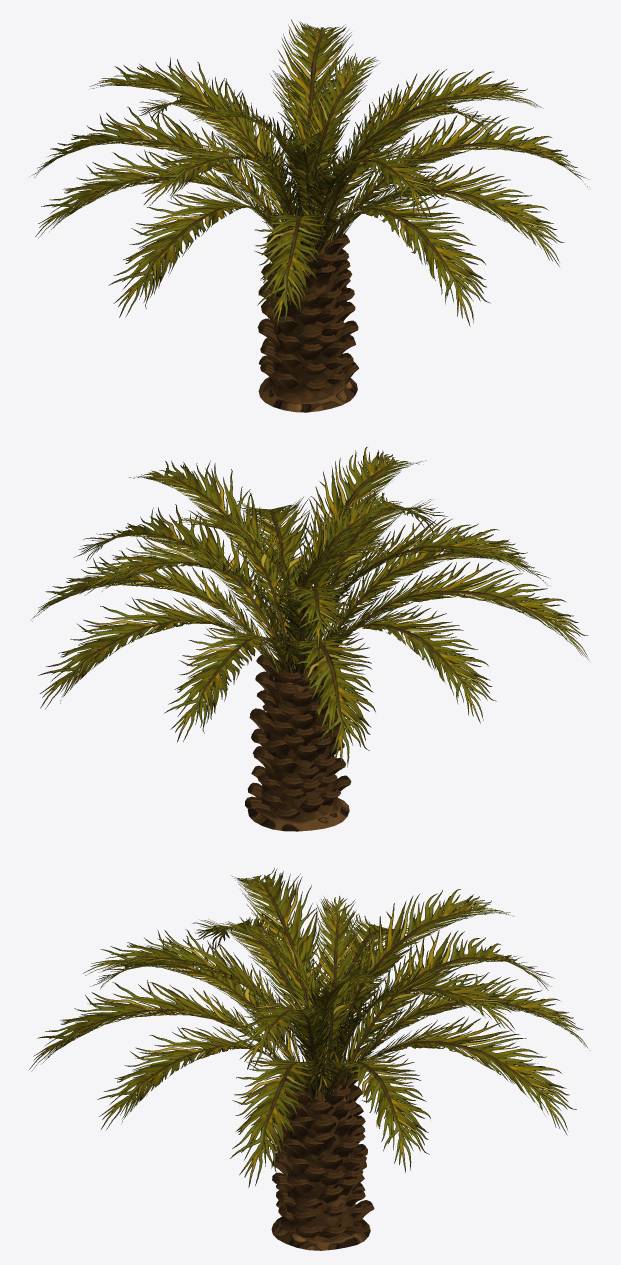
Rendered from Sawitsedeng.dae.
3 views of the same model, one above another, from view 1: azimuth 30°, elevation 25°; view 2: azimuth 150°, elevation 25°; view 3: azimuth 270°, elevation 25° (orthographic).
Visible parts, largest first — view 1: Plane014_Material #25_0, Plane015_Material #25_0, Plane011_Material #25_0, Plane008_Material #25_0, Cylinder001, Plane010_Material #25_0, Plane002_Material #25_0, Plane005_Material #25_0, Plane013_Material #25_0, Plane007_Material #25_0, Plane006_Material #25_0, Plane004_Material #25_0 (+7 smaller); view 2: Plane013_Material #25_0, Plane008_Material #25_0, Plane015_Material #25_0, Plane012_Material #25_0, Plane001_Material #25_0, Plane003_Material #25_0, Cylinder001, Plane011_Material #25_0, Plane006_Material #25_0, Plane009_Material #25_0, Plane004_Material #25_0, Plane010_Material #25_0 (+7 smaller); view 3: Plane011_Material #25_0, Plane012_Material #25_0, Plane002_Material #25_0, Plane009_Material #25_0, Cylinder001, Plane013_Material #25_0, Plane004_Material #25_0, Plane014_Material #25_0, Plane016_Material #25_0, Plane007_Material #25_0, Plane008_Material #25_0, Plane010_Material #25_0 (+7 smaller).
Boxes of the visible parts, x1=… form: Plane014_Material #25_0: x1=312, y1=191, x2=490, y2=326; Plane015_Material #25_0: x1=108, y1=187, x2=286, y2=317; Plane011_Material #25_0: x1=330, y1=111, x2=589, y2=241; Plane008_Material #25_0: x1=325, y1=69, x2=543, y2=242; Cylinder001: x1=258, y1=239, x2=357, y2=412; Plane010_Material #25_0: x1=277, y1=19, x2=352, y2=234; Plane002_Material #25_0: x1=89, y1=57, x2=292, y2=229; Plane005_Material #25_0: x1=254, y1=207, x2=330, y2=331; Plane013_Material #25_0: x1=31, y1=106, x2=285, y2=231; Plane007_Material #25_0: x1=329, y1=164, x2=564, y2=266; Plane006_Material #25_0: x1=306, y1=137, x2=445, y2=247; Plane004_Material #25_0: x1=140, y1=132, x2=302, y2=243; Plane013_Material #25_0: x1=280, y1=629, x2=375, y2=769; Plane008_Material #25_0: x1=129, y1=460, x2=291, y2=651; Plane015_Material #25_0: x1=335, y1=562, x2=588, y2=659; Plane012_Material #25_0: x1=38, y1=597, x2=278, y2=709; Plane001_Material #25_0: x1=164, y1=621, x2=293, y2=742; Plane003_Material #25_0: x1=311, y1=605, x2=496, y2=723; Cylinder001: x1=247, y1=656, x2=349, y2=831; Plane011_Material #25_0: x1=73, y1=504, x2=282, y2=653; Plane006_Material #25_0: x1=297, y1=446, x2=426, y2=654; Plane009_Material #25_0: x1=31, y1=550, x2=275, y2=663; Plane004_Material #25_0: x1=316, y1=518, x2=532, y2=662; Plane010_Material #25_0: x1=79, y1=532, x2=285, y2=667; Plane011_Material #25_0: x1=230, y1=1051, x2=322, y2=1187; Plane012_Material #25_0: x1=340, y1=1016, x2=576, y2=1135; Plane002_Material #25_0: x1=330, y1=889, x2=514, y2=1078; Plane009_Material #25_0: x1=320, y1=1049, x2=430, y2=1172; Cylinder001: x1=271, y1=1077, x2=370, y2=1250; Plane013_Material #25_0: x1=340, y1=930, x2=554, y2=1077; Plane004_Material #25_0: x1=231, y1=868, x2=329, y2=1076; Plane014_Material #25_0: x1=29, y1=980, x2=281, y2=1071; Plane016_Material #25_0: x1=312, y1=896, x2=364, y2=1072; Plane007_Material #25_0: x1=97, y1=1026, x2=303, y2=1129; Plane008_Material #25_0: x1=232, y1=991, x2=331, y2=1092; Plane010_Material #25_0: x1=331, y1=961, x2=520, y2=1091.
Size of the model in its own units: 5.36 by 5.41 by 2.99.
Materials: 1 (1 with a texture image).
